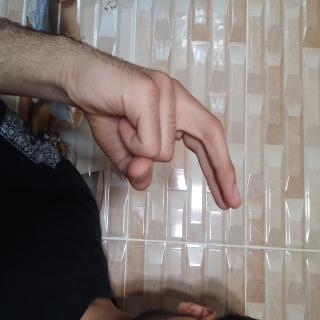ZAY: (19, 99, 161, 320)
